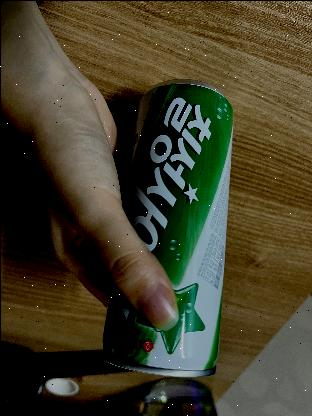Can: (98, 78, 236, 374)
